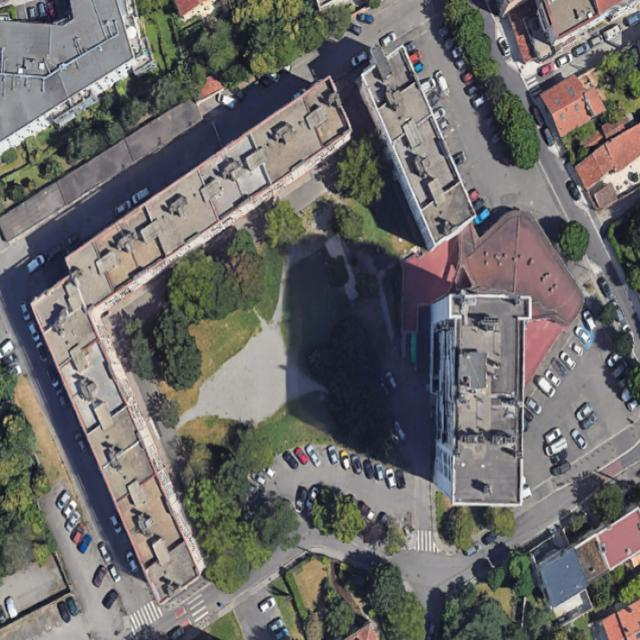immeuble: (54, 75, 368, 319), (24, 269, 217, 606), (349, 47, 483, 254), (423, 293, 532, 507)
